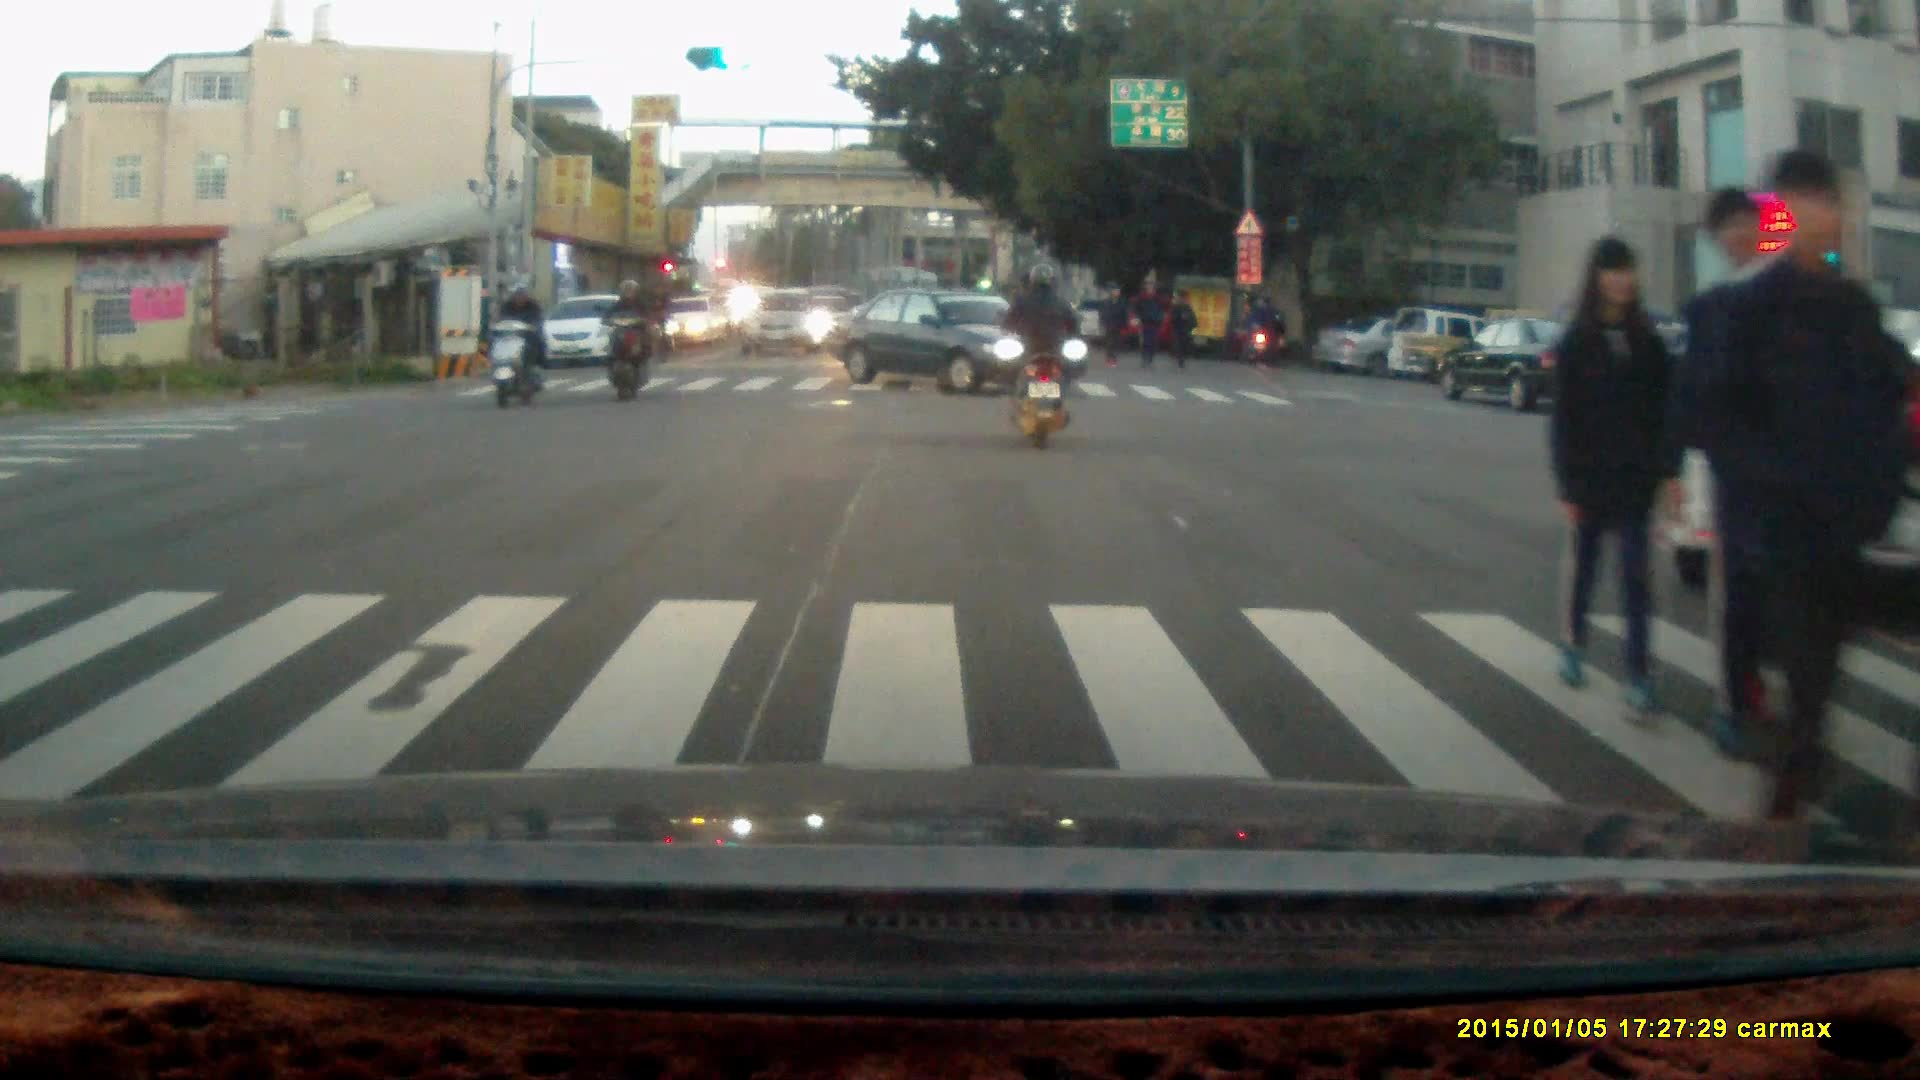pedestrian: (1698, 143, 1889, 859), (1676, 184, 1807, 776), (1540, 225, 1684, 729), (1129, 276, 1163, 374), (1164, 285, 1196, 374), (1096, 281, 1126, 363), (1253, 290, 1284, 367)
rider: (998, 259, 1082, 448), (485, 277, 547, 409), (595, 275, 657, 403), (1237, 298, 1275, 363)
vehicle: (823, 280, 1091, 397), (1441, 314, 1601, 410), (1317, 309, 1492, 381), (537, 293, 650, 369), (746, 289, 830, 358)
